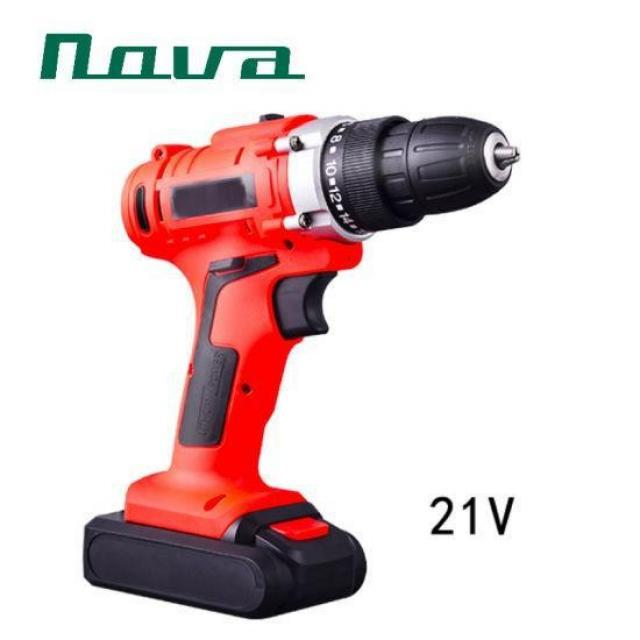drill: (82, 113, 522, 620)
